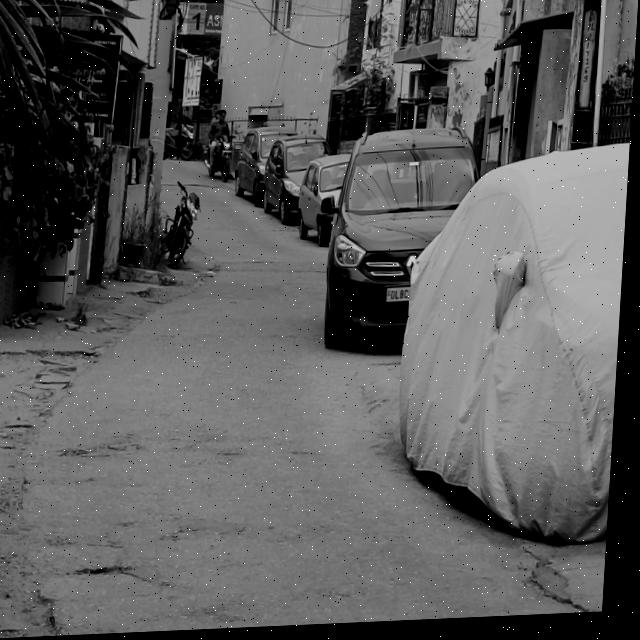bike: (168, 179, 205, 283), (205, 136, 236, 185), (167, 116, 200, 162)
car: (323, 127, 487, 354), (263, 137, 336, 223), (299, 155, 360, 249), (236, 128, 297, 203)
